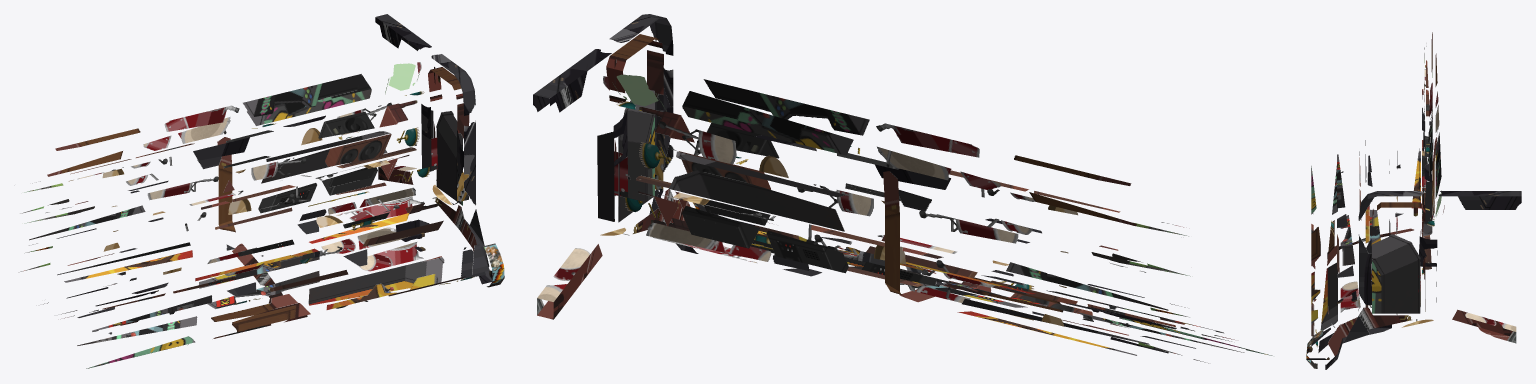
3 views of the same model, side by side, from view 1: azimuth 30°, elevation 25°; view 2: azimuth 150°, elevation 25°; view 3: azimuth 270°, elevation 25° (orthographic). The views are drawn at different scales.
Size of the model in its own units: 1.75 by 0.7542 by 0.8461.
